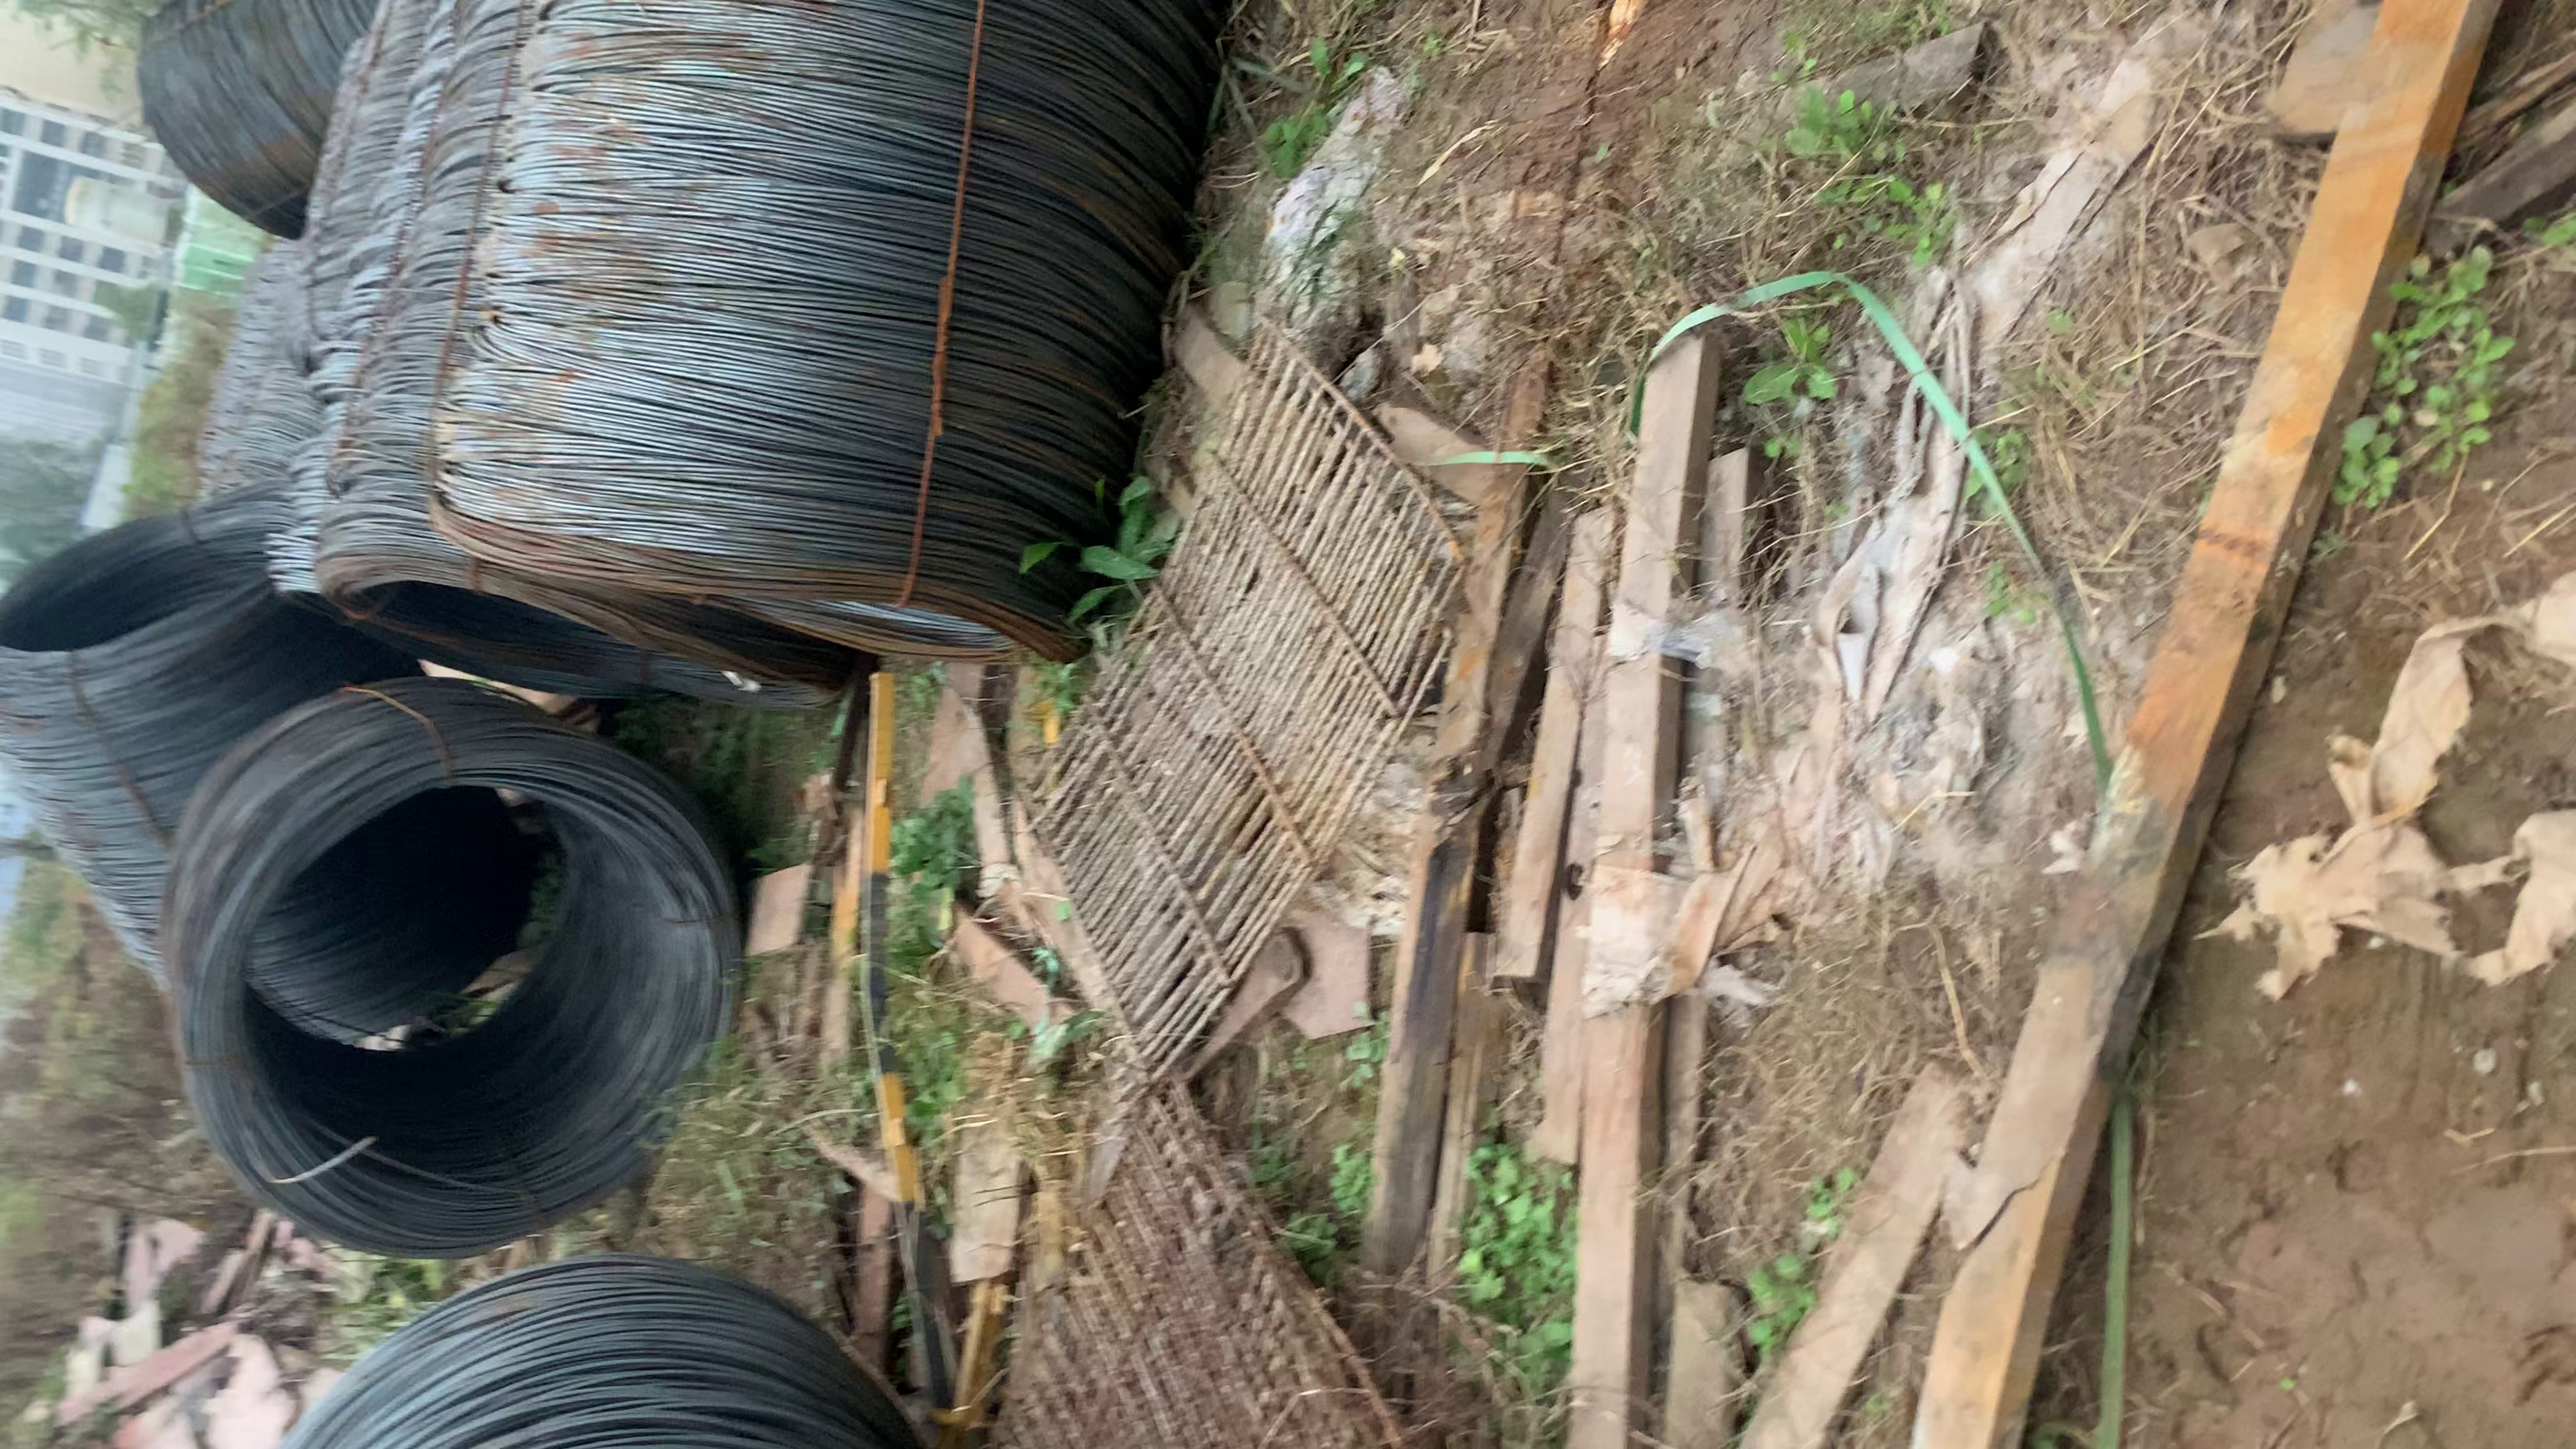coil: (184, 745, 732, 1267), (416, 529, 1093, 697), (292, 563, 837, 741), (2, 506, 326, 663)
